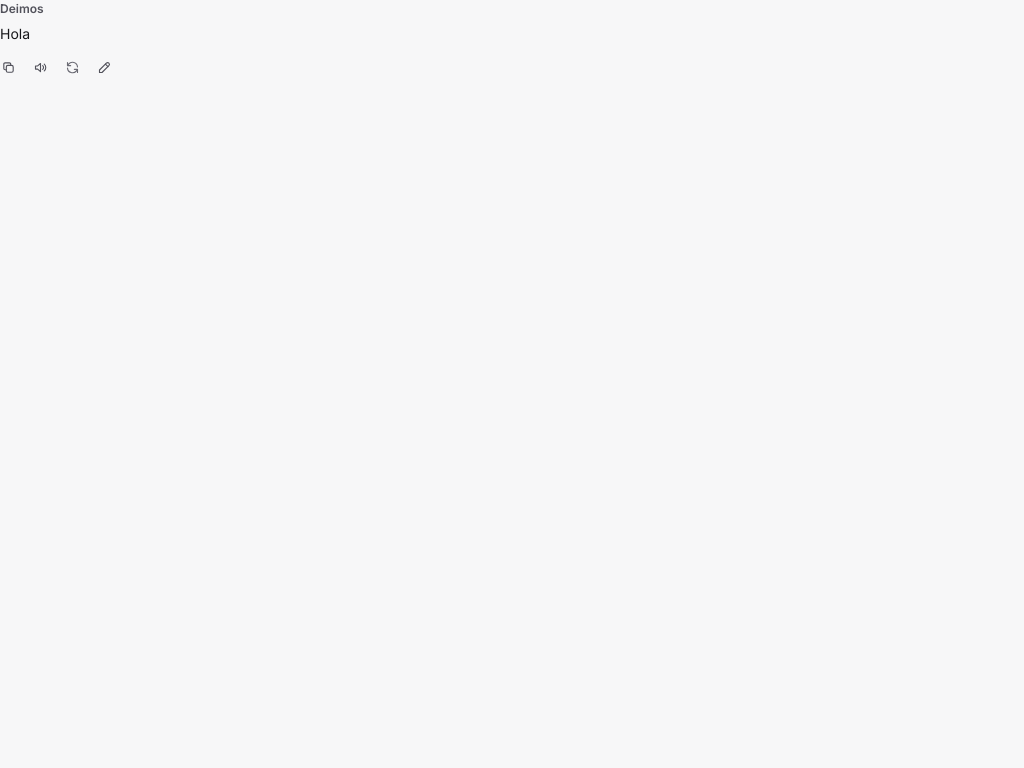
Scenario: the answer in the editor › closing sends nothing
Click the button named "Editar y copiar": (104, 67) left=90, top=53, right=118, bottom=81
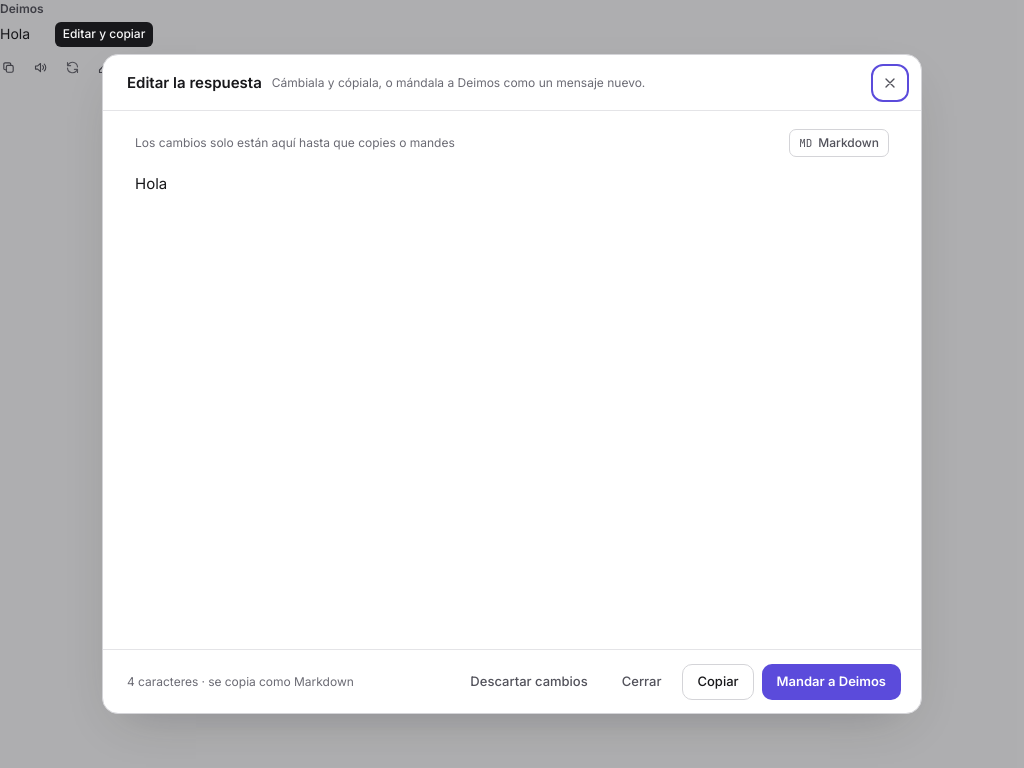
Click the button "Cerrar": (642, 682) left=609, top=664, right=674, bottom=700
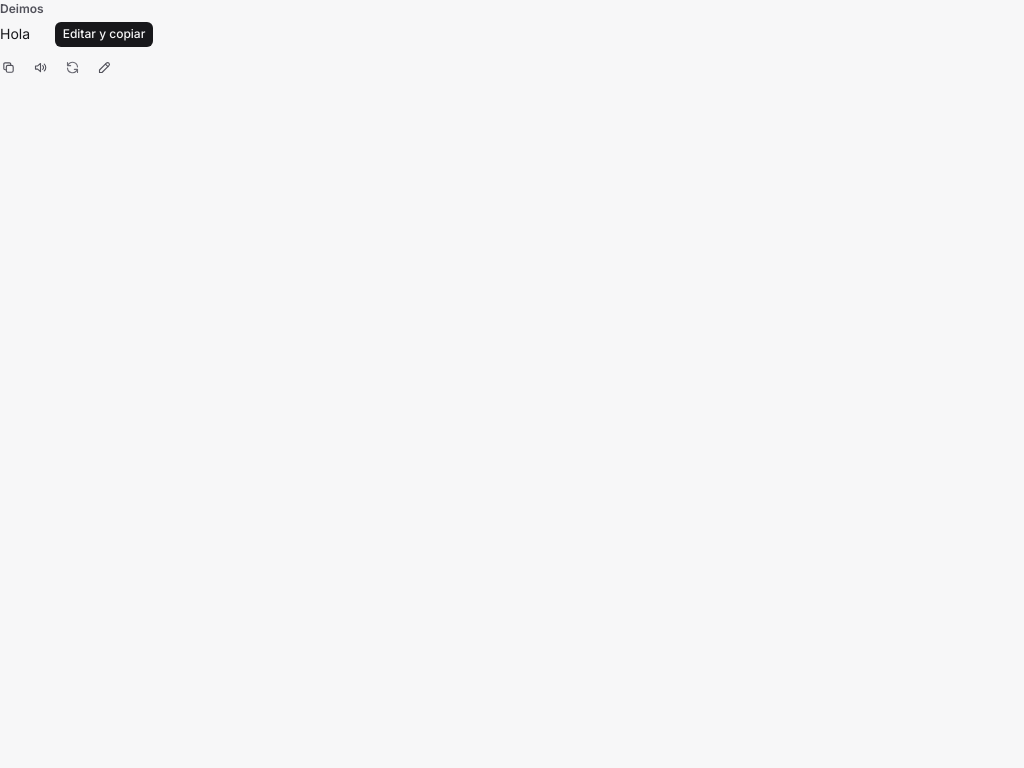
Check: the dialog is gone
